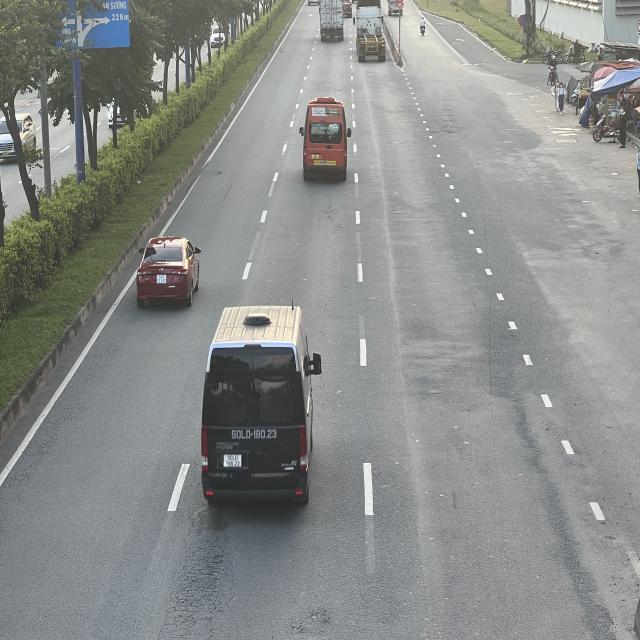car: (136, 234, 203, 306)
container: (354, 0, 385, 64), (318, 0, 344, 42)
van: (200, 304, 322, 506), (298, 96, 352, 180)
